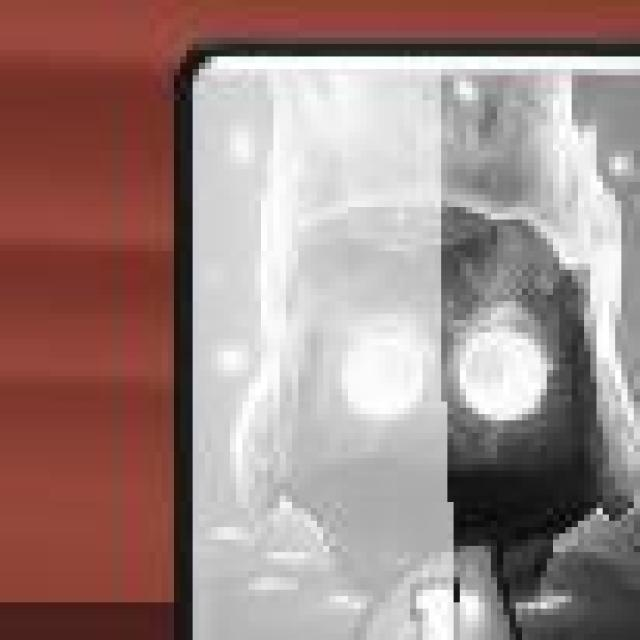Fire_Spirit: (172, 41, 640, 639)
